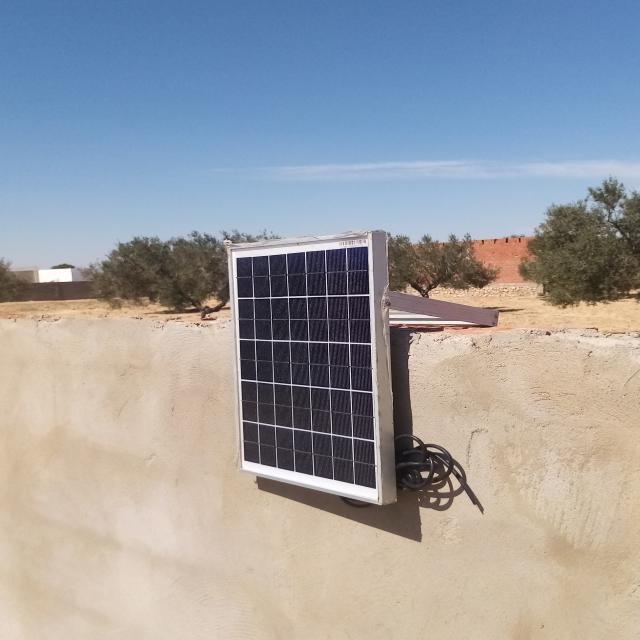Normal Solar Panel: (232, 229, 379, 505)
